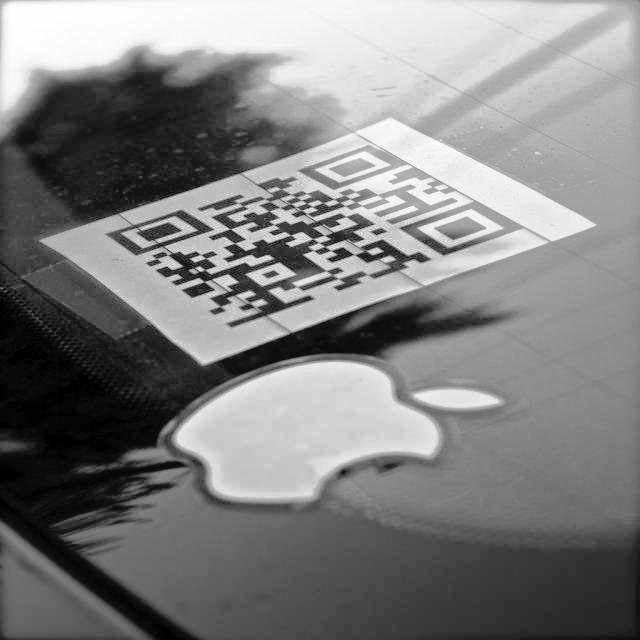qr_code: (104, 145, 523, 328)
